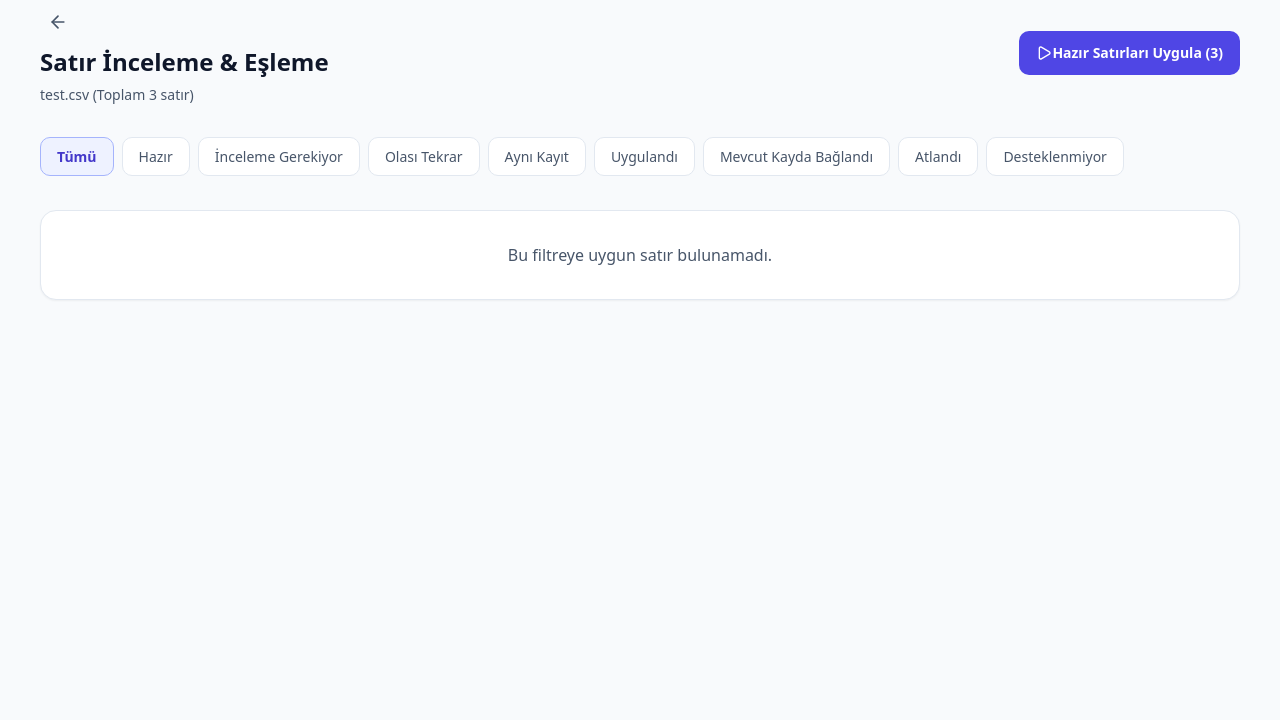
Scenario: F9 — CSV Imports & Resolution Unit & Integration Suite › integrates ImportRowsReview with readyCount = 3 and initializes apply modal correctly
The image size is (1280, 720).
Click the button with test id "btn-apply-ready-from-review": x=1130, y=52 [1019,30,1240,74]
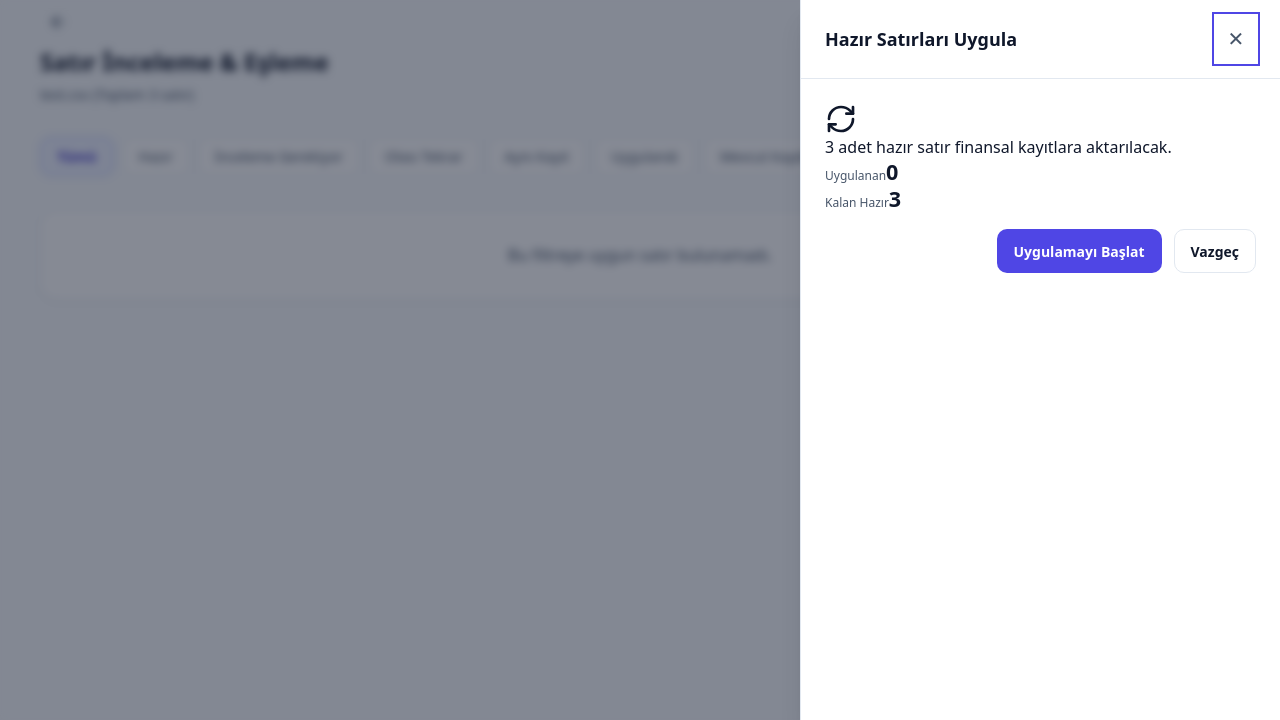
Expected: the text with test id "metric-remaining-count" reads "3", [889,184,901,213]
Expected: the button with test id "btn-start-apply" is enabled, [996,229,1162,273]
